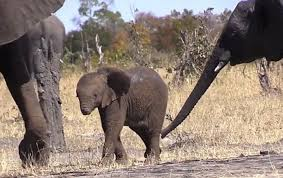Elephant: (66, 63, 174, 165)
